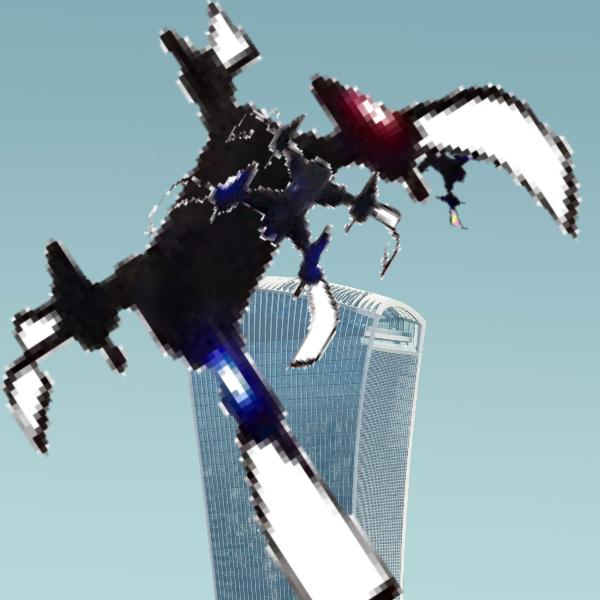drone: (148, 99, 407, 358), (399, 98, 538, 237)
